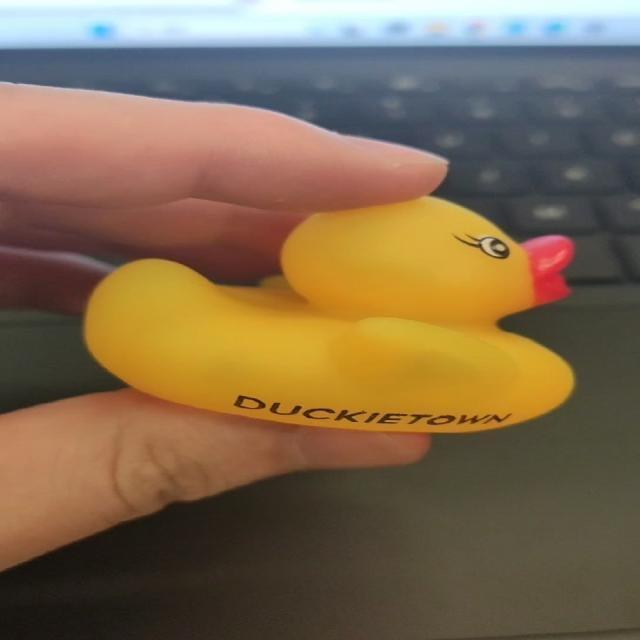rubber-duck: (84, 196, 573, 431)
